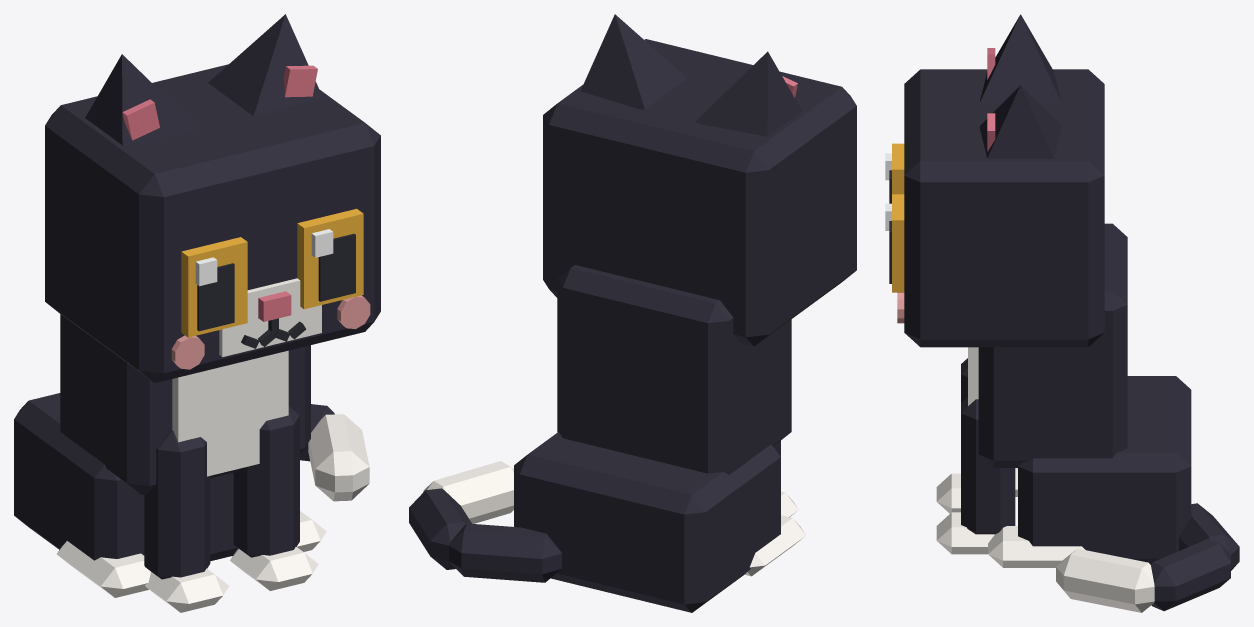
File: CleanACat_Cat_Tux_Sit.fbx
3 views of the same model, side by side, from view 1: azimuth 30°, elevation 25°; view 2: azimuth 150°, elevation 25°; view 3: azimuth 270°, elevation 25° (orthographic). The views are drawn at different scales.
Visible parts, largest first — view 1: CleanACat_Cat_Tux_Sit_Head, CleanACat_Cat_Tux_Sit_Body, CleanACat_Cat_Tux_Sit_LegF2, CleanACat_Cat_Tux_Sit_LegF1, CleanACat_Cat_Tux_Sit_EarL, CleanACat_Cat_Tux_Sit_Eye2, CleanACat_Cat_Tux_Sit_Eye1, CleanACat_Cat_Tux_Sit_EarR, CleanACat_Cat_Tux_Sit_Tail; view 2: CleanACat_Cat_Tux_Sit_Body, CleanACat_Cat_Tux_Sit_Head, CleanACat_Cat_Tux_Sit_Tail, CleanACat_Cat_Tux_Sit_EarL, CleanACat_Cat_Tux_Sit_EarR; view 3: CleanACat_Cat_Tux_Sit_Head, CleanACat_Cat_Tux_Sit_Body, CleanACat_Cat_Tux_Sit_Tail, CleanACat_Cat_Tux_Sit_LegF1, CleanACat_Cat_Tux_Sit_EarL, CleanACat_Cat_Tux_Sit_EarR, CleanACat_Cat_Tux_Sit_Eye1, CleanACat_Cat_Tux_Sit_LegF2, CleanACat_Cat_Tux_Sit_Eye2.
Boxes of the visible parts, bbox=[...] form: CleanACat_Cat_Tux_Sit_Head: bbox=[45, 64, 380, 382]; CleanACat_Cat_Tux_Sit_Body: bbox=[14, 314, 326, 597]; CleanACat_Cat_Tux_Sit_LegF2: bbox=[144, 430, 228, 612]; CleanACat_Cat_Tux_Sit_LegF1: bbox=[230, 406, 318, 590]; CleanACat_Cat_Tux_Sit_EarL: bbox=[208, 14, 322, 116]; CleanACat_Cat_Tux_Sit_Eye2: bbox=[181, 237, 247, 337]; CleanACat_Cat_Tux_Sit_Eye1: bbox=[297, 208, 363, 309]; CleanACat_Cat_Tux_Sit_EarR: bbox=[85, 54, 199, 145]; CleanACat_Cat_Tux_Sit_Tail: bbox=[300, 404, 369, 501]; CleanACat_Cat_Tux_Sit_Body: bbox=[514, 265, 805, 612]; CleanACat_Cat_Tux_Sit_Head: bbox=[543, 39, 856, 346]; CleanACat_Cat_Tux_Sit_Tail: bbox=[409, 461, 561, 582]; CleanACat_Cat_Tux_Sit_EarL: bbox=[580, 14, 687, 109]; CleanACat_Cat_Tux_Sit_EarR: bbox=[695, 51, 801, 136]; CleanACat_Cat_Tux_Sit_Head: bbox=[897, 69, 1104, 347]; CleanACat_Cat_Tux_Sit_Body: bbox=[968, 223, 1191, 567]; CleanACat_Cat_Tux_Sit_Tail: bbox=[1056, 503, 1239, 612]; CleanACat_Cat_Tux_Sit_LegF1: bbox=[936, 397, 1015, 554]; CleanACat_Cat_Tux_Sit_EarL: bbox=[980, 85, 1061, 158]; CleanACat_Cat_Tux_Sit_EarR: bbox=[980, 14, 1061, 102]; CleanACat_Cat_Tux_Sit_Eye1: bbox=[885, 194, 904, 292]; CleanACat_Cat_Tux_Sit_LegF2: bbox=[936, 358, 967, 513]; CleanACat_Cat_Tux_Sit_Eye2: bbox=[885, 143, 904, 203].
Size of the model in its own units: 1.24 by 1.85 by 1.24.
Materials: 1 (1 with a texture image).
